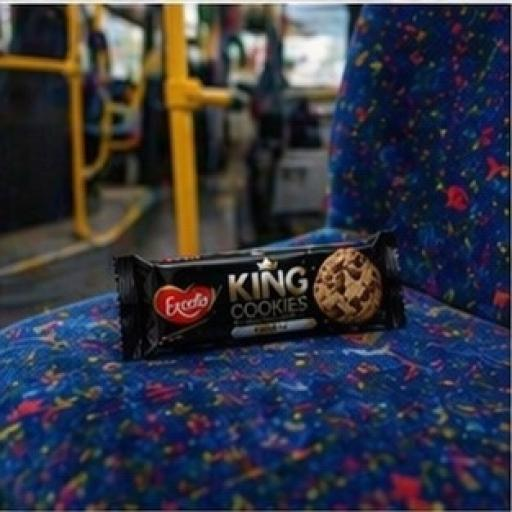king_cooking: (78, 172, 449, 376)
